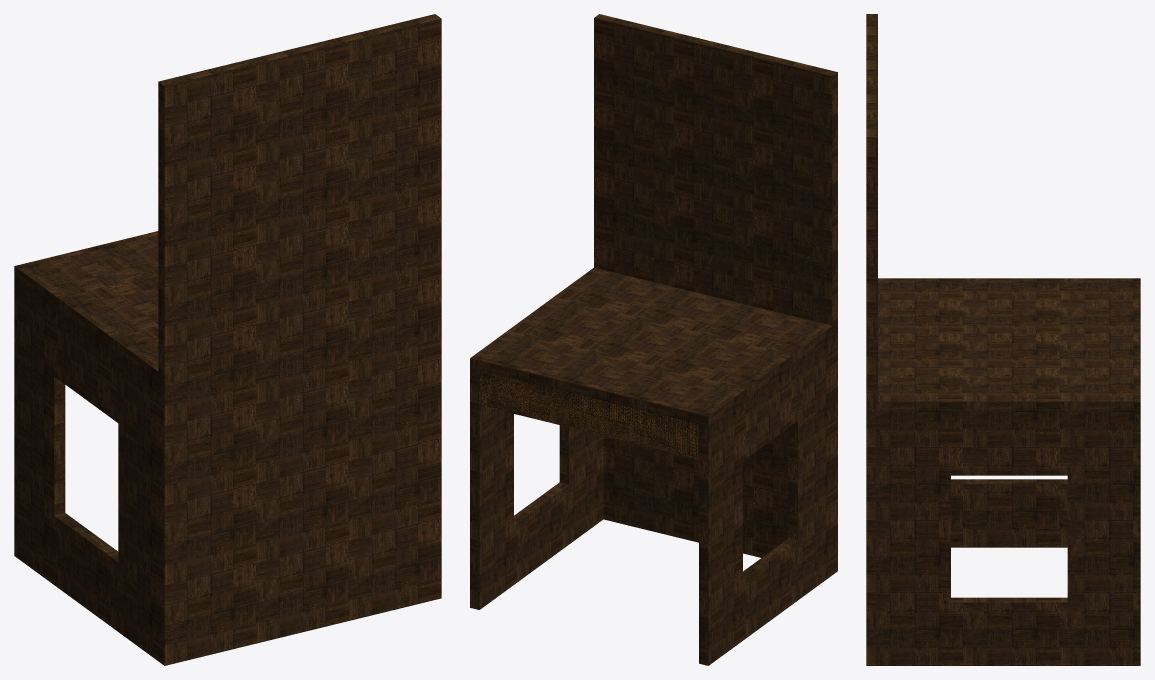
3 renders of one model, left to right at view 1: azimuth 30°, elevation 25°; view 2: azimuth 150°, elevation 25°; view 3: azimuth 270°, elevation 25°, orthographic. The views are drawn at different scales.
Visible parts, largest first — view 1: mesh1_mesh1-geometry; view 2: mesh1_mesh1-geometry; view 3: mesh1_mesh1-geometry.
Boxes of the visible parts, x1,y1,x2,y2 form: mesh1_mesh1-geometry: (14,14,441,665); mesh1_mesh1-geometry: (470,14,837,665); mesh1_mesh1-geometry: (866,14,1140,665).
Size of the model in its own units: 0.4123 by 0.8245 by 0.3875.
